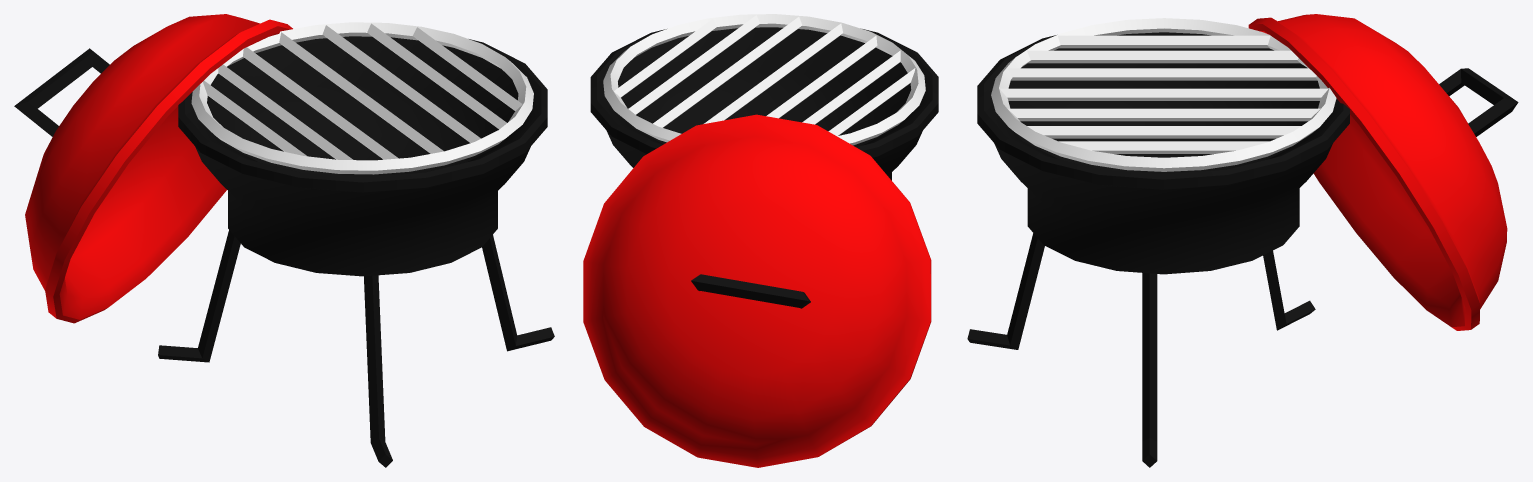
File: Barbacue.fbx
3 renders of one model, left to right at view 1: azimuth 30°, elevation 25°; view 2: azimuth 150°, elevation 25°; view 3: azimuth 270°, elevation 25°, orthographic. The views are drawn at different scales.
Parts seen in each view (by area): view 1: Cylinder004; view 2: Cylinder004; view 3: Cylinder004.
Part boxes in pixels (x1,y1,x2,y2): Cylinder004: (14,14,554,467); Cylinder004: (583,14,938,467); Cylinder004: (967,14,1518,467).
Size of the model in its own units: 127 by 90.04 by 143.
